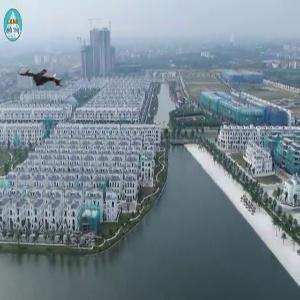drone: (18, 55, 68, 105)
